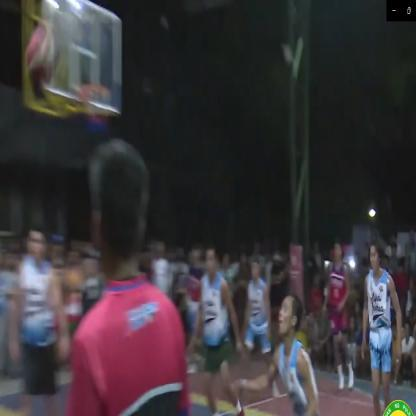basketball: (23, 21, 61, 102)
rim: (73, 75, 116, 136)
